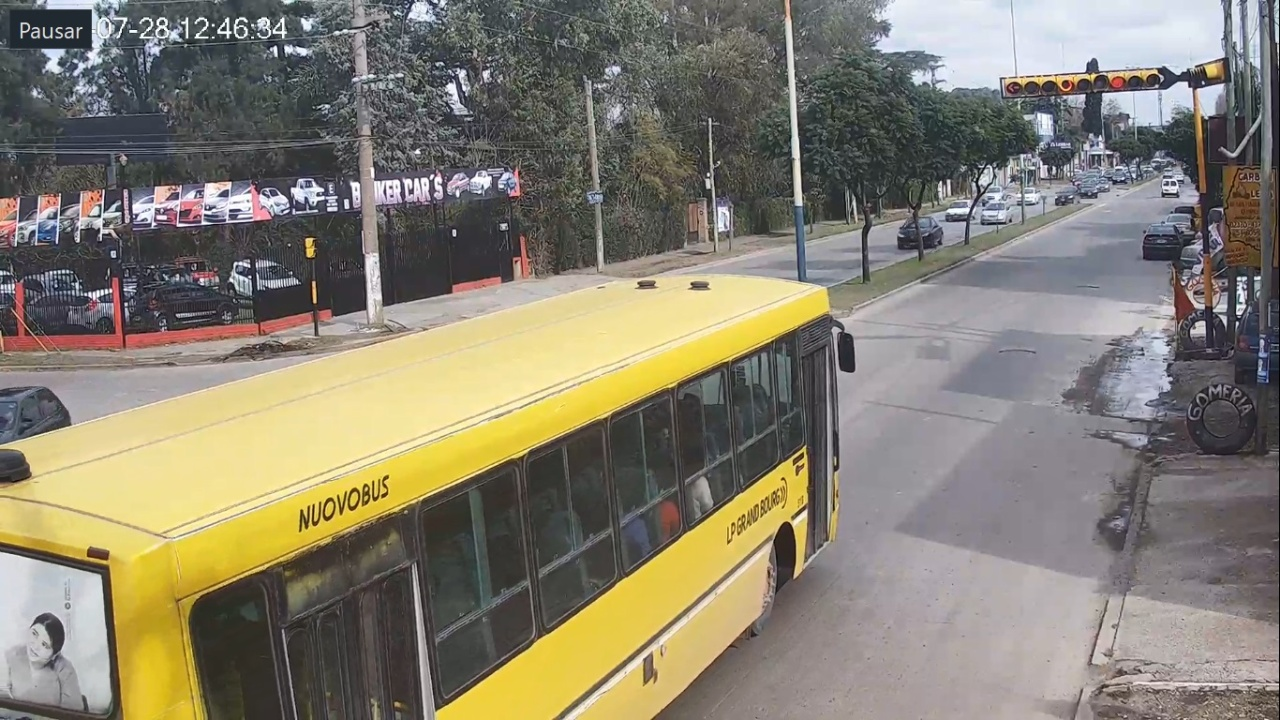bus: (1, 275, 858, 720)
traffic light: (1053, 70, 1160, 93)
